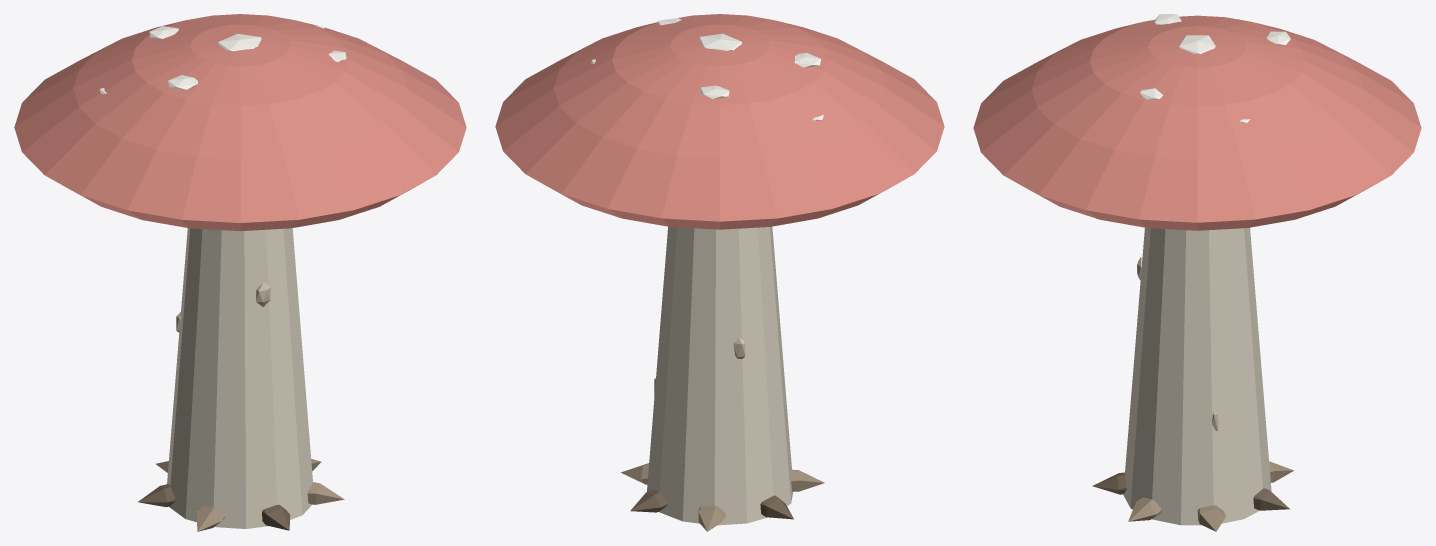
The model's file is tree-mushroom-red.glb.
The picture shows the model from 3 angles, left to right: view 1: azimuth 30°, elevation 25°; view 2: azimuth 150°, elevation 25°; view 3: azimuth 270°, elevation 25°; orthographic projection.
Parts seen in each view (by area): view 1: tree-mushroom-red; view 2: tree-mushroom-red; view 3: tree-mushroom-red.
Boxes of the visible parts, x1,y1,x2,y2 form: tree-mushroom-red: (14,14,466,531); tree-mushroom-red: (495,14,944,531); tree-mushroom-red: (973,14,1421,531).
Bounding box in the file's own units: 4.1 × 4.58 × 4.1.
